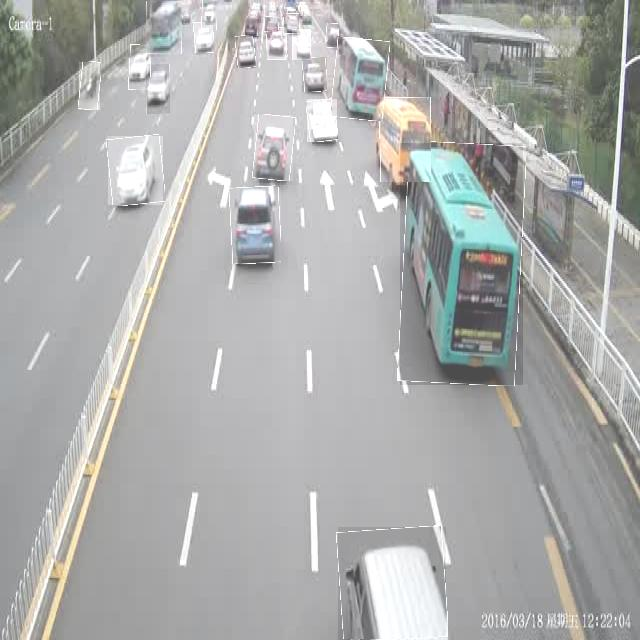Bus: (400, 143, 523, 385), (332, 38, 388, 120), (380, 97, 431, 182), (146, 1, 182, 56)
Car: (338, 527, 446, 640), (230, 187, 281, 264), (108, 136, 163, 205), (254, 115, 293, 181), (307, 99, 337, 142), (146, 64, 170, 114), (128, 45, 150, 90), (302, 57, 327, 92), (267, 27, 287, 60), (236, 36, 256, 68), (292, 29, 311, 60), (194, 22, 213, 53), (202, 0, 217, 30), (283, 14, 300, 34), (326, 24, 338, 48), (246, 18, 260, 36), (265, 17, 279, 32)
Motorcycle: (79, 62, 100, 110)
